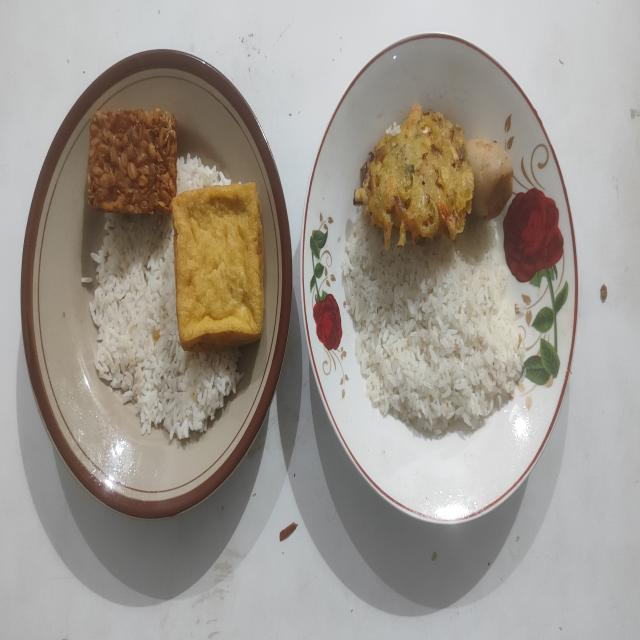nasi_putih: (342, 210, 524, 437), (89, 215, 241, 440), (176, 153, 232, 195)
tahu_goreng: (172, 182, 264, 350)
tempe_goreng: (87, 109, 177, 214)
